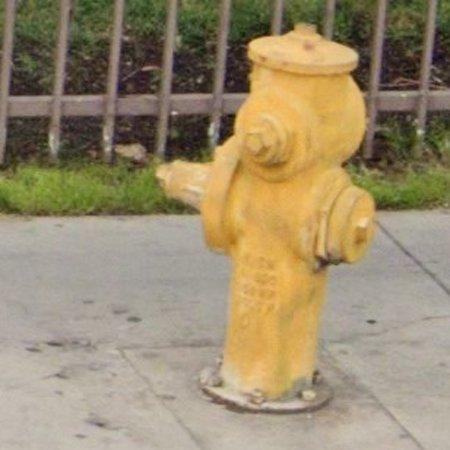a fire hydrant: (157, 24, 376, 414)
